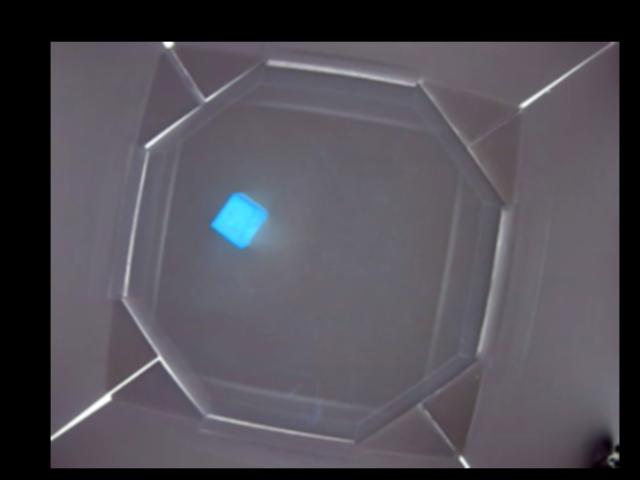Carrot: (210, 190, 265, 247)
